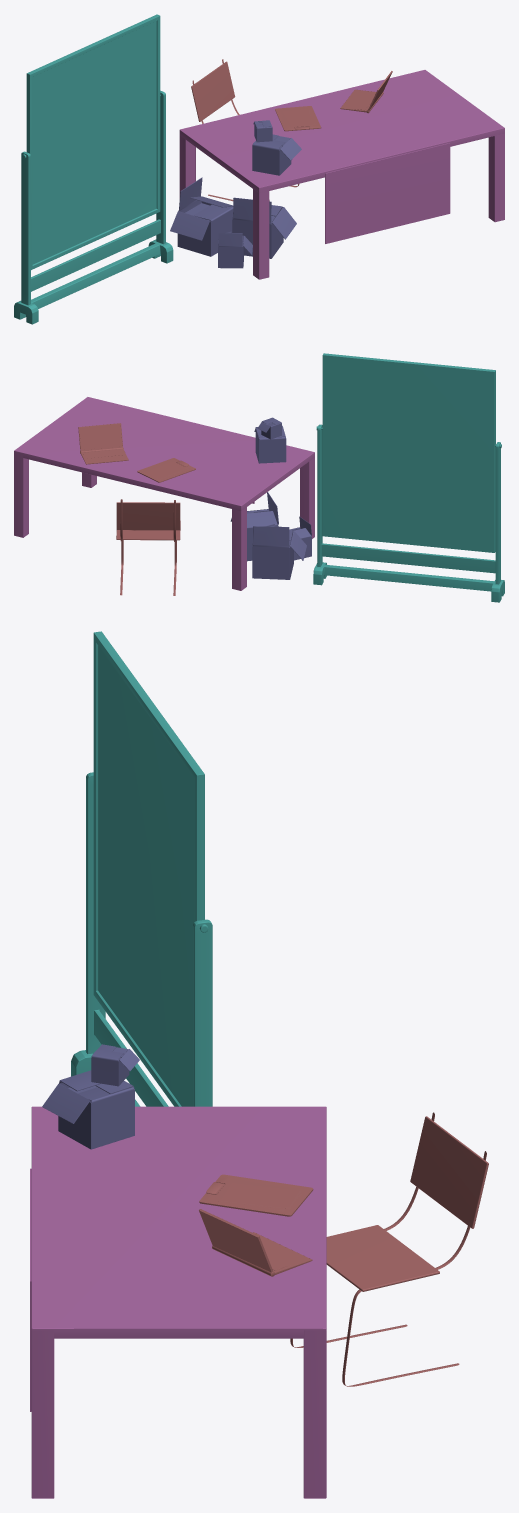
File: Reception.fbx
3 renders of one model, top to bottom at view 1: azimuth 30°, elevation 25°; view 2: azimuth 150°, elevation 25°; view 3: azimuth 270°, elevation 25°, orthographic. The views are drawn at different scales.
Visible parts, largest first — view 1: Mirror_Mirror, pCube1, Name_Board, Mirror_Stand, Box_Ajar, Box_Ajar2, pCube12, pCube2, pCube3, Box_Closed, Box_Ajar1, pCube5 (+3 smaller); view 2: Mirror_Mirror, pCube1, Mirror_Stand, Box_Ajar, pCube12, pCube4, pCube5, Laptop_Screen, pCube2, Box_Closed, Box_Ajar2, pCube14 (+5 smaller); view 3: pCube1, Mirror_Mirror, Mirror_Stand, pCube12, Box_Closed, pCube14, pCube3, pCube4, polySurface27, Paper1, Box_Closed1, Board.
Boxes of the visible parts, x1,y1,x2,y2 form: Mirror_Mirror: (26, 14, 160, 269); pCube1: (179, 70, 504, 193); Name_Board: (325, 143, 450, 243); Mirror_Stand: (14, 90, 173, 324); Box_Ajar: (170, 177, 233, 256); Box_Ajar2: (232, 197, 296, 258); pCube12: (191, 61, 235, 121); pCube2: (253, 185, 269, 279); pCube3: (488, 129, 504, 222); Box_Closed: (252, 134, 301, 175); Box_Ajar1: (218, 231, 252, 268); pCube5: (179, 135, 195, 198); Mirror_Mirror: (322, 353, 495, 552); pCube1: (14, 397, 314, 510); Mirror_Stand: (313, 424, 504, 602); Box_Ajar: (252, 524, 306, 579); pCube12: (116, 502, 180, 530); pCube4: (14, 451, 28, 537); pCube5: (232, 507, 246, 590); Laptop_Screen: (79, 424, 122, 449); pCube2: (300, 457, 314, 538); Box_Closed: (254, 425, 286, 463); Box_Ajar2: (230, 492, 278, 561); pCube14: (116, 521, 180, 540); pCube1: (31, 1106, 326, 1338); Mirror_Mirror: (93, 631, 204, 1106); Mirror_Stand: (71, 772, 212, 1106); pCube12: (410, 1116, 488, 1228); Box_Closed: (42, 1070, 134, 1149); pCube14: (326, 1225, 439, 1291); pCube3: (31, 1330, 54, 1498); pCube4: (303, 1330, 326, 1498); polySurface27: (199, 1209, 273, 1272); Paper1: (213, 1180, 302, 1209); Box_Closed1: (91, 1044, 139, 1086); Board: (199, 1174, 313, 1216).
Size of the model in its own units: 425 by 214 by 195.
